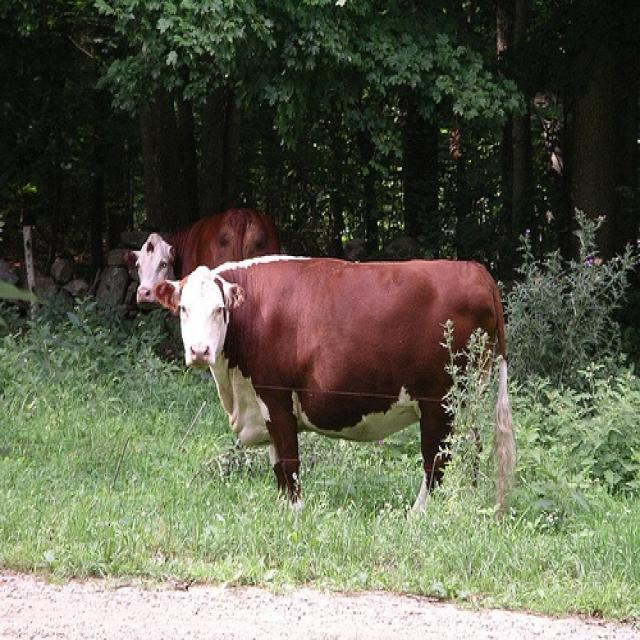cow: (158, 253, 514, 500), (126, 210, 278, 311)
